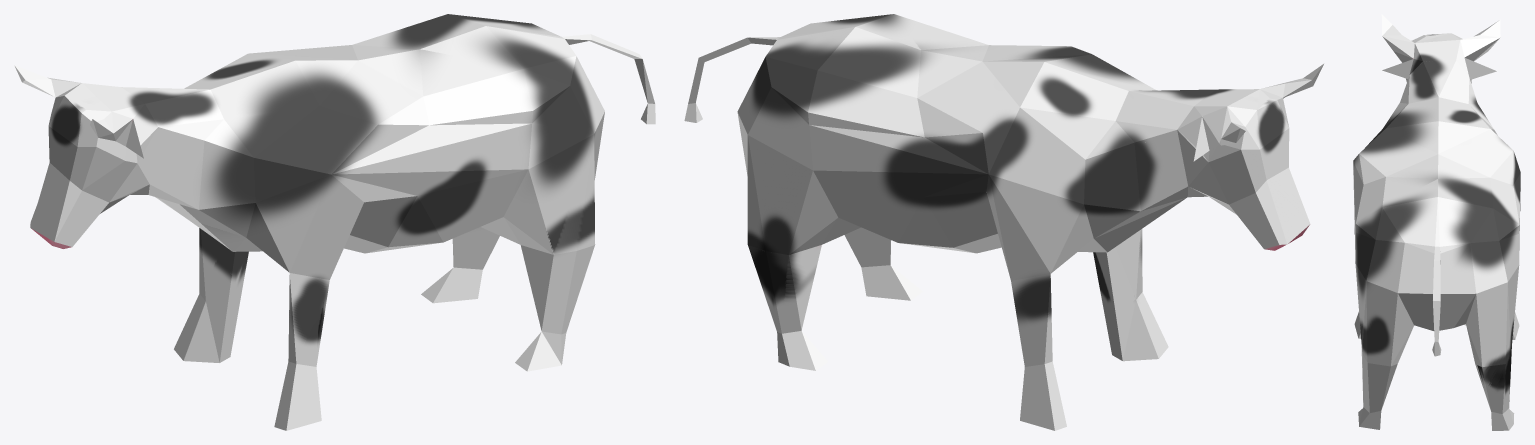
The model's file is cattle.fbx.
The picture shows the model from 3 angles, left to right: view 1: azimuth 30°, elevation 25°; view 2: azimuth 150°, elevation 25°; view 3: azimuth 270°, elevation 25°; orthographic projection. The views are drawn at different scales.
Visible parts, largest first — view 1: vaca1; view 2: vaca1; view 3: vaca1.
Boxes of the visible parts, x1,y1,x2,y2 form: vaca1: [14, 14, 655, 430]; vaca1: [684, 14, 1323, 430]; vaca1: [1353, 14, 1520, 430].
Size of the model in its own units: 1352 by 733 by 439.
